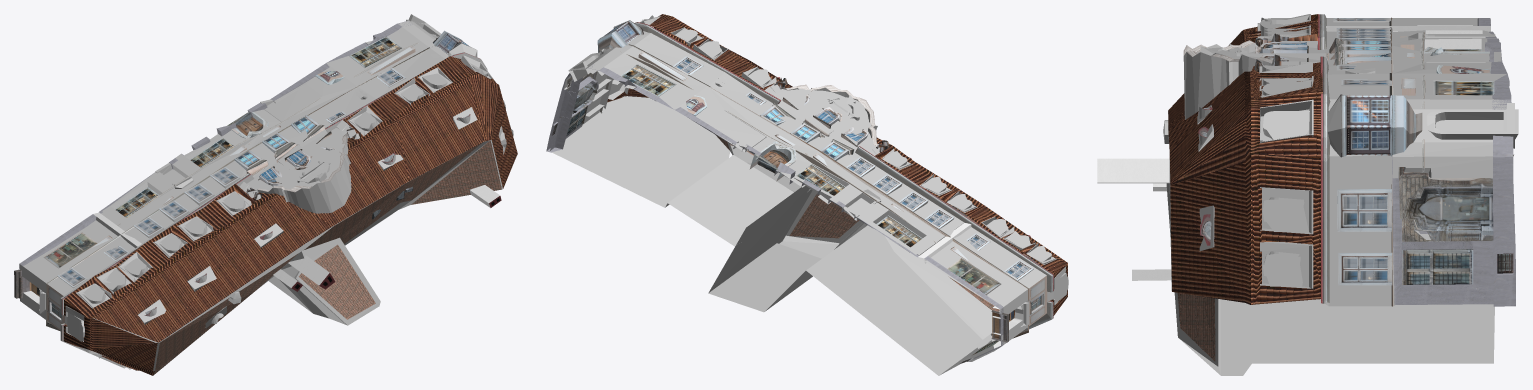
The model's file is Pikk_6-origo.obj.
3 views of the same model, side by side, from view 1: azimuth 30°, elevation 25°; view 2: azimuth 150°, elevation 25°; view 3: azimuth 270°, elevation 25° (orthographic). The views are drawn at different scales.
Parts seen in each view (by area): view 1: Pikk_6; view 2: Pikk_6; view 3: Pikk_6.
Part boxes in pixels (bbox=[...]): Pikk_6: bbox=[14, 14, 517, 375]; Pikk_6: bbox=[546, 14, 1068, 375]; Pikk_6: bbox=[1097, 14, 1518, 375].
Bounding box in the file's own units: 44.06 × 22.5 × 19.98.
